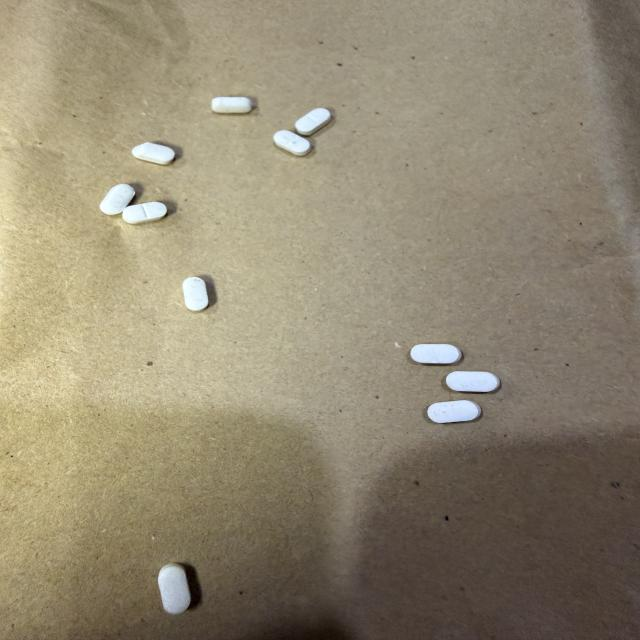pill: (158, 564, 190, 614), (428, 400, 481, 423), (446, 371, 500, 392), (100, 184, 135, 215), (411, 344, 461, 364), (132, 142, 175, 165), (295, 108, 331, 135), (123, 202, 167, 224), (274, 130, 311, 156), (183, 277, 208, 311), (212, 97, 252, 113)
